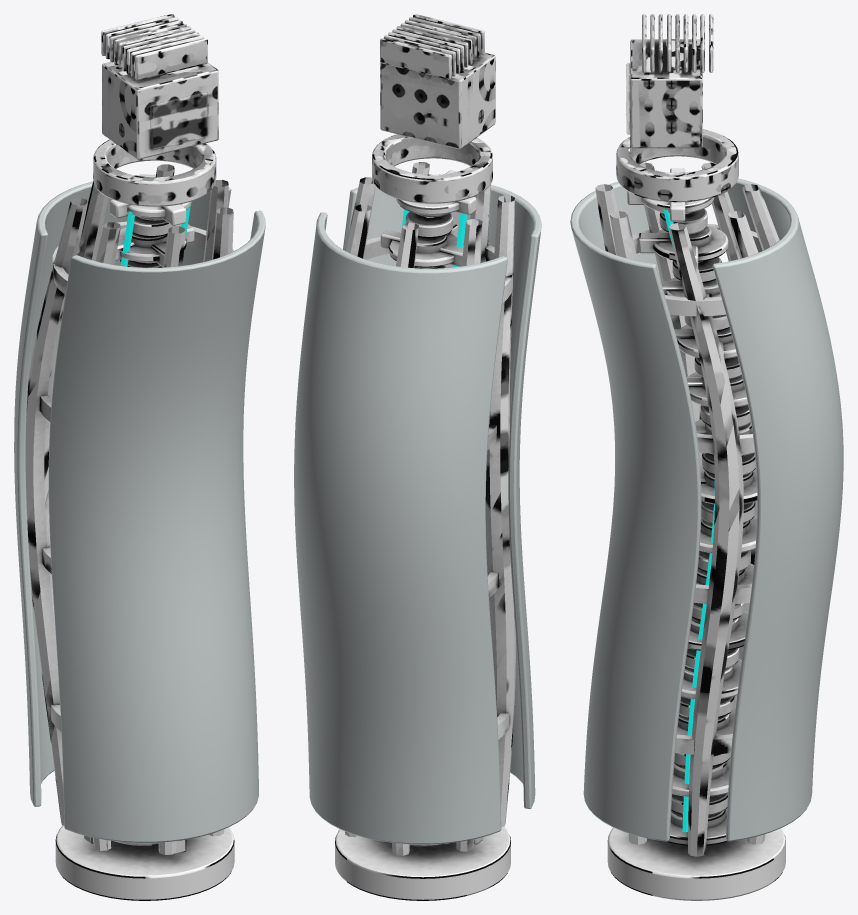
File: cybernetic_module_baked.glb
3 renders of one model, left to right at view 1: azimuth 30°, elevation 25°; view 2: azimuth 150°, elevation 25°; view 3: azimuth 270°, elevation 25°, orthographic.
Visible parts, largest first — view 1: Dermal_Shell_R, Memory_Coprocessor, Muscle_Layer, Spinal_Interface, Dermal_Shell_L; view 2: Dermal_Shell_L, Memory_Coprocessor, Muscle_Layer, Spinal_Interface, Dermal_Shell_R; view 3: Dermal_Shell_L, Dermal_Shell_R, Spinal_Interface, Muscle_Layer, Memory_Coprocessor, Neural_Conductor.
Part boxes in pixels (x1,y1,x2,y2): Dermal_Shell_R: (48,210,265,842); Memory_Coprocessor: (93,14,218,206); Muscle_Layer: (25,164,233,854); Spinal_Interface: (55,199,234,900); Dermal_Shell_L: (14,174,231,806); Dermal_Shell_L: (294,212,507,844); Memory_Coprocessor: (372,14,495,203); Muscle_Layer: (345,162,515,855); Spinal_Interface: (335,170,510,900); Dermal_Shell_R: (343,185,541,808); Dermal_Shell_L: (712,178,843,841); Dermal_Shell_R: (570,182,701,841); Spinal_Interface: (607,168,785,900); Muscle_Layer: (595,162,779,856); Memory_Coprocessor: (616,14,738,202); Neural_Conductor: (663,209,714,832).
Size of the model in its own units: 0.3934 by 1.65 by 0.4904.
Materials: 13 (9 with a texture image).
